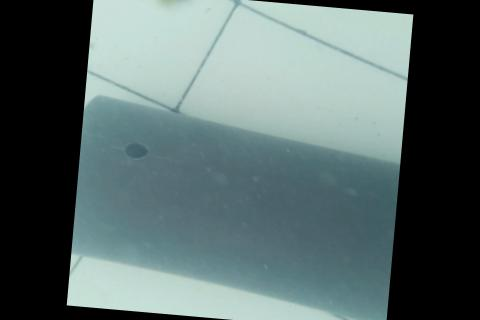kebocoran: (120, 138, 152, 161)
